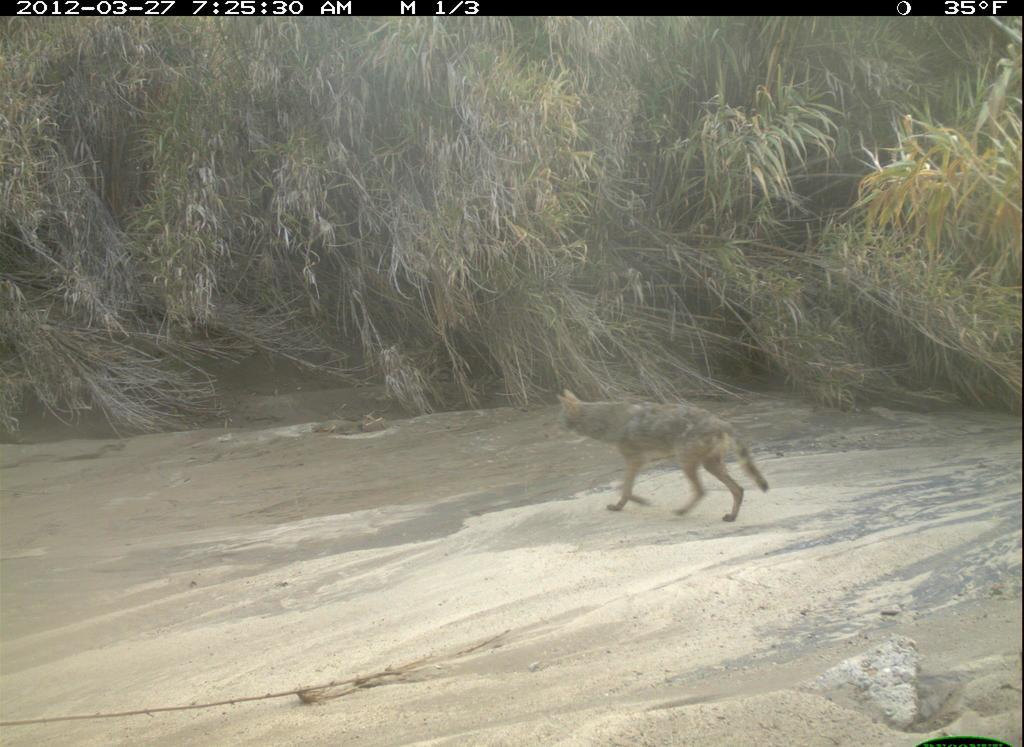coyote: (543, 381, 783, 534)
